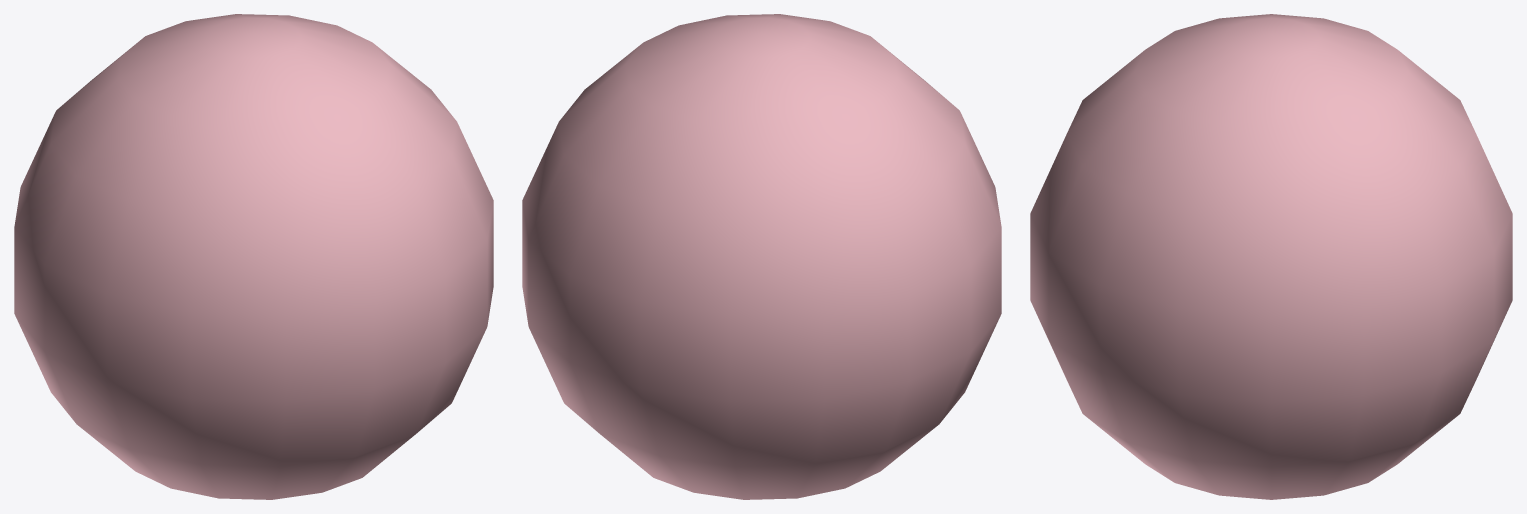
Rendered from Egg of Earth.glb.
3 views of the same model, side by side, from view 1: azimuth 30°, elevation 25°; view 2: azimuth 150°, elevation 25°; view 3: azimuth 270°, elevation 25° (orthographic).
Parts seen in each view (by area): view 1: Sphere; view 2: Sphere; view 3: Sphere.
Part boxes in pixels (<box>): Sphere: <box>14,14,493,499</box>; Sphere: <box>522,14,1001,499</box>; Sphere: <box>1030,14,1512,499</box>.
Size of the model in its own units: 5.52 by 5.63 by 5.52.
